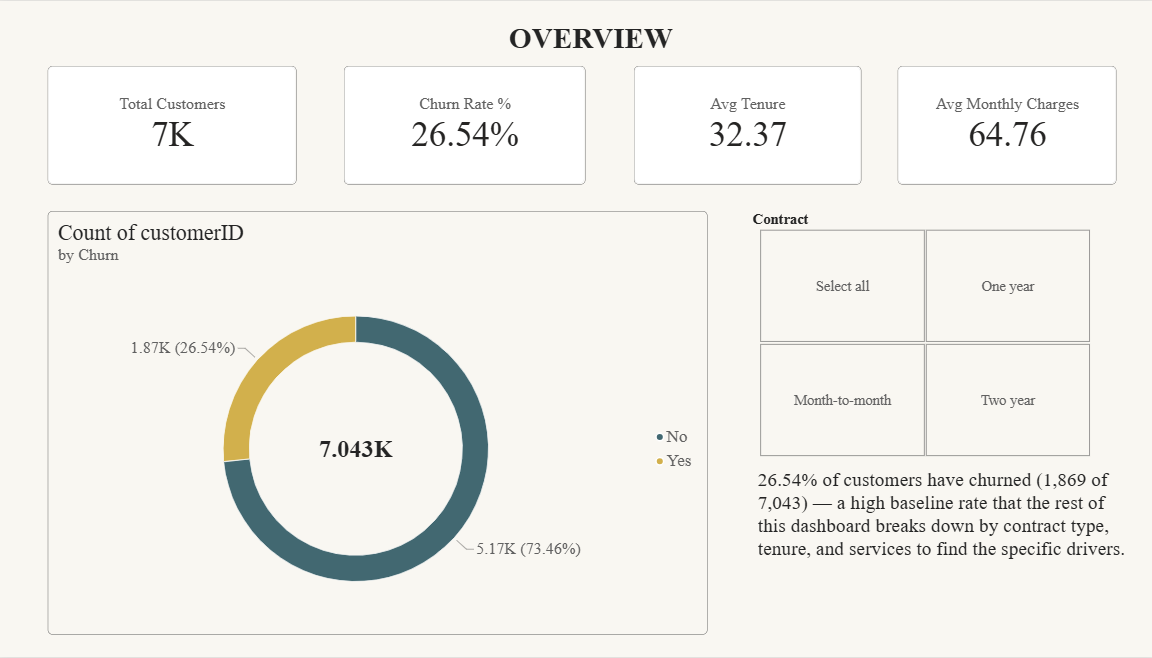

This screenshot's page, from the dashboard's own definition file:
{"tool":"powerbi","page":{"name":"Overview","canvas":[1920,1080],"ordinal":0},"visuals":[{"type":"cardVisual","fields":{"Data":["cohort_summary.Total Customers"]},"box":[88.5,107,409.6,195.5],"z":0},{"type":"cardVisual","fields":{"Data":["cleaned_telco_churn.Churn Rate %"]},"box":[576.3,107,397.3,195.5],"z":1},{"type":"cardVisual","fields":{"Data":["cleaned_telco_churn.Avg Tenure"]},"box":[1053.9,107,374.6,195.5],"z":2},{"type":"cardVisual","fields":{"Data":["cleaned_telco_churn.Avg Monthly Charges"]},"box":[1488.2,107,360.2,195.5],"z":3},{"type":"textbox","box":[848,35,409.6,96.7],"z":4},{"type":"donutChart","fields":{"Category":["cleaned_telco_churn.Churn"],"Y":["CountNonNull(cleaned_telco_churn.customerID)"]},"box":[88.5,345.8,1086.8,697.8],"z":5},{"type":"slicer","fields":{"Values":["cleaned_telco_churn.Contract"]},"box":[1241.2,345.8,582.5,405.5],"z":6},{"type":"textbox","box":[1257.6,769.8,611.3,292.3],"z":7}]}

Visuals, with their boxes in screenshot pixels (x1, y1, x2, y2), scaled from the page's 1920x1080 canvas onto the 1152x658 screenshot:
cardVisual - cohort_summary.Total Customers: <box>53,65,299,184</box>
cardVisual - cleaned_telco_churn.Churn Rate %: <box>346,65,584,184</box>
cardVisual - cleaned_telco_churn.Avg Tenure: <box>632,65,857,184</box>
cardVisual - cleaned_telco_churn.Avg Monthly Charges: <box>893,65,1109,184</box>
textbox: <box>509,21,755,80</box>
donutChart - cleaned_telco_churn.Churn x CountNonNull(cleaned_telco_churn.customerID): <box>53,211,705,636</box>
slicer - cleaned_telco_churn.Contract: <box>745,211,1094,458</box>
textbox: <box>755,469,1121,647</box>
